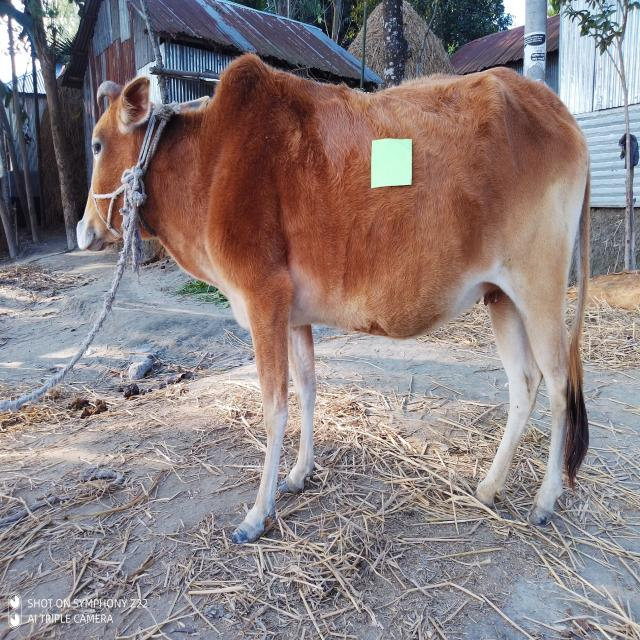badan_sapi: (239, 66, 559, 320)
sapi: (66, 50, 604, 546)
